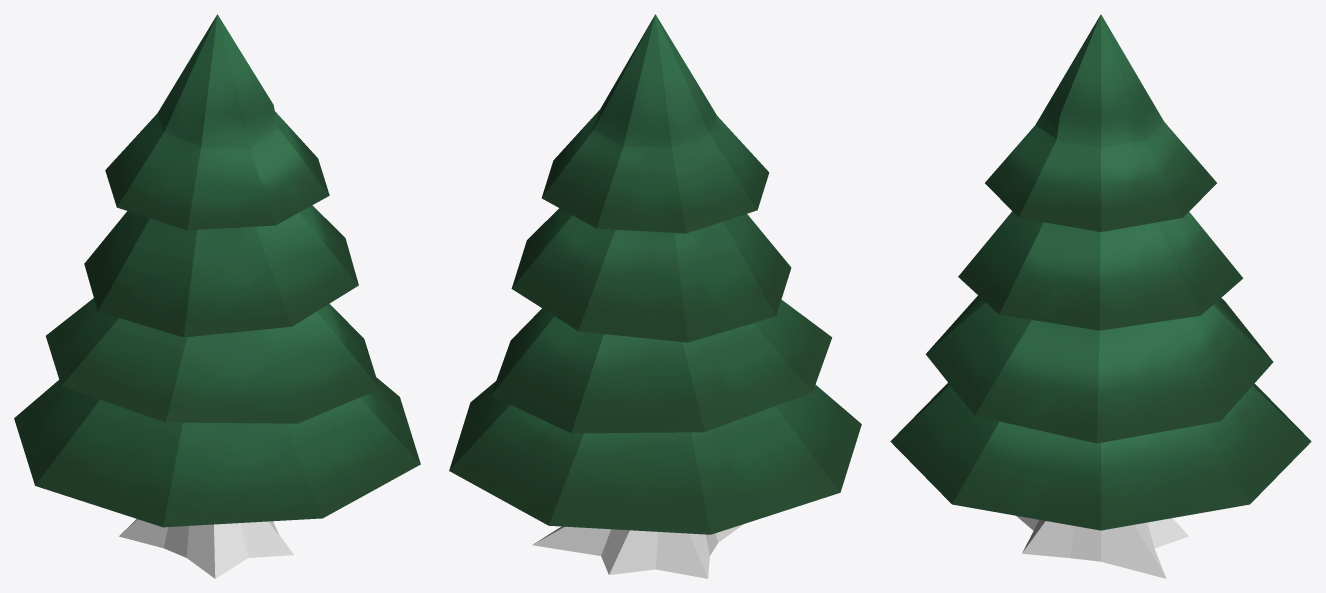
File: PineTree.fbx
The picture shows the model from 3 angles, left to right: view 1: azimuth 30°, elevation 25°; view 2: azimuth 150°, elevation 25°; view 3: azimuth 270°, elevation 25°; orthographic projection.
Parts seen in each view (by area): view 1: Hunter_Pine_Leaf_Normal_004, Hunter_Pine_Leaf_Normal_003, Hunter_Pine_Leaf_Normal_001, Hunter_Pine_Leaf_Normal_002, Hunter_Pine_Tree_Trunk_Normal_001; view 2: Hunter_Pine_Leaf_Normal_004, Hunter_Pine_Leaf_Normal_003, Hunter_Pine_Leaf_Normal_001, Hunter_Pine_Leaf_Normal_002, Hunter_Pine_Tree_Trunk_Normal_001; view 3: Hunter_Pine_Leaf_Normal_004, Hunter_Pine_Leaf_Normal_003, Hunter_Pine_Leaf_Normal_001, Hunter_Pine_Leaf_Normal_002, Hunter_Pine_Tree_Trunk_Normal_001.
Boxes of the visible parts, x1,y1,x2,y2 form: Hunter_Pine_Leaf_Normal_004: [14, 377, 420, 527]; Hunter_Pine_Leaf_Normal_003: [46, 298, 379, 423]; Hunter_Pine_Leaf_Normal_001: [105, 14, 329, 230]; Hunter_Pine_Leaf_Normal_002: [84, 205, 358, 337]; Hunter_Pine_Tree_Trunk_Normal_001: [119, 519, 293, 578]; Hunter_Pine_Leaf_Normal_004: [449, 381, 861, 534]; Hunter_Pine_Leaf_Normal_003: [491, 299, 832, 433]; Hunter_Pine_Leaf_Normal_001: [542, 14, 769, 233]; Hunter_Pine_Leaf_Normal_002: [511, 208, 791, 342]; Hunter_Pine_Tree_Trunk_Normal_001: [532, 524, 743, 578]; Hunter_Pine_Leaf_Normal_004: [890, 383, 1311, 530]; Hunter_Pine_Leaf_Normal_003: [925, 295, 1273, 443]; Hunter_Pine_Leaf_Normal_001: [985, 14, 1216, 231]; Hunter_Pine_Leaf_Normal_002: [958, 211, 1243, 330]; Hunter_Pine_Tree_Trunk_Normal_001: [1016, 515, 1188, 578].
Bounding box in the file's own units: 163 × 223 × 163.
